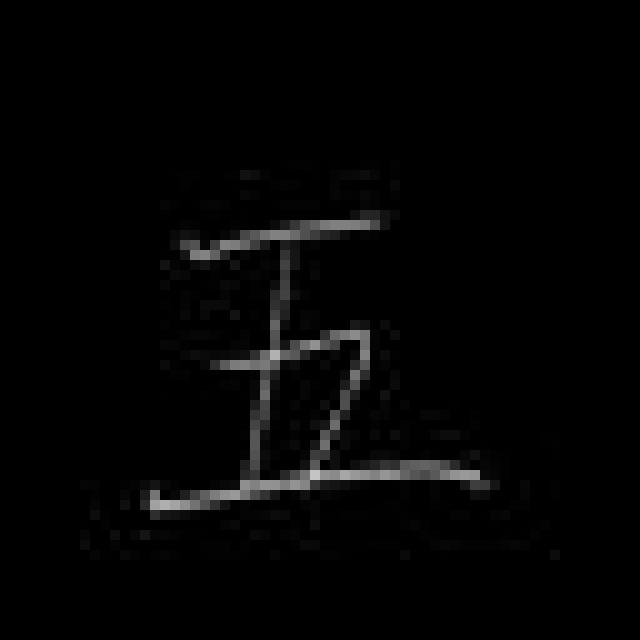5 -five-: (139, 206, 492, 521)
